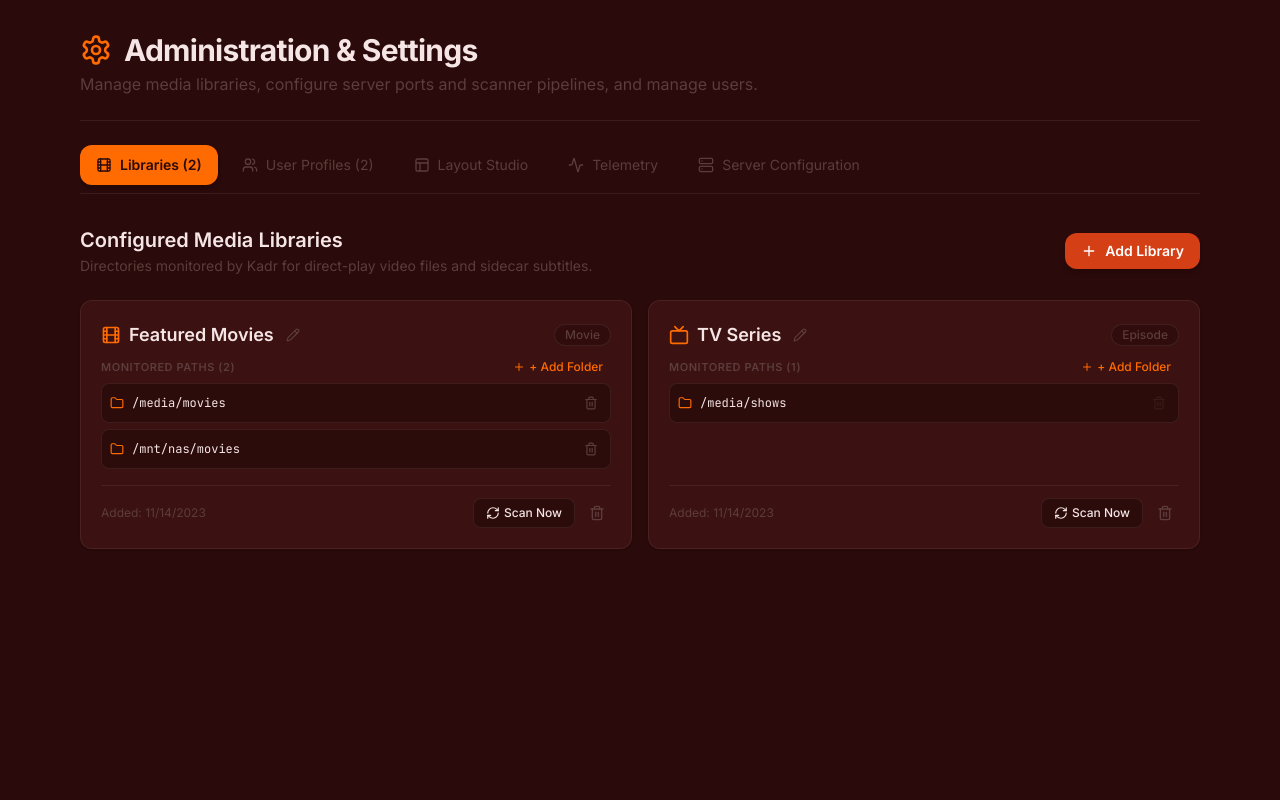
AdminDashboard Component › allows adding and removing folder paths in Add Library modal and disables submit with 0 paths
Expected: the heading "Featured Movies" is shown, [129, 321, 274, 349]
Click the button "Add Library". click: (1133,251)
box: [1065, 233, 1200, 269]
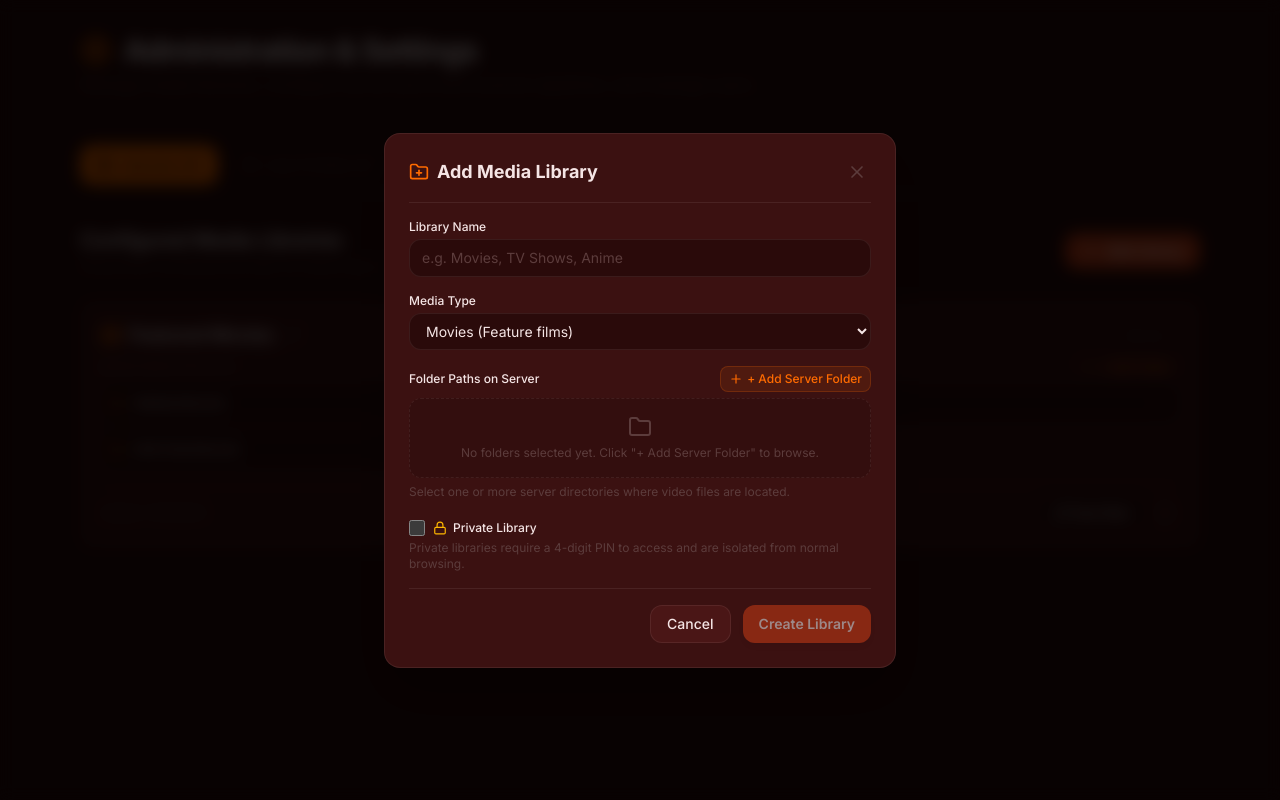
Type "Anime" into the field with placeholder "e.g. Movies, TV Shows, Anime". click: (640,258)
box: [409, 238, 871, 276]
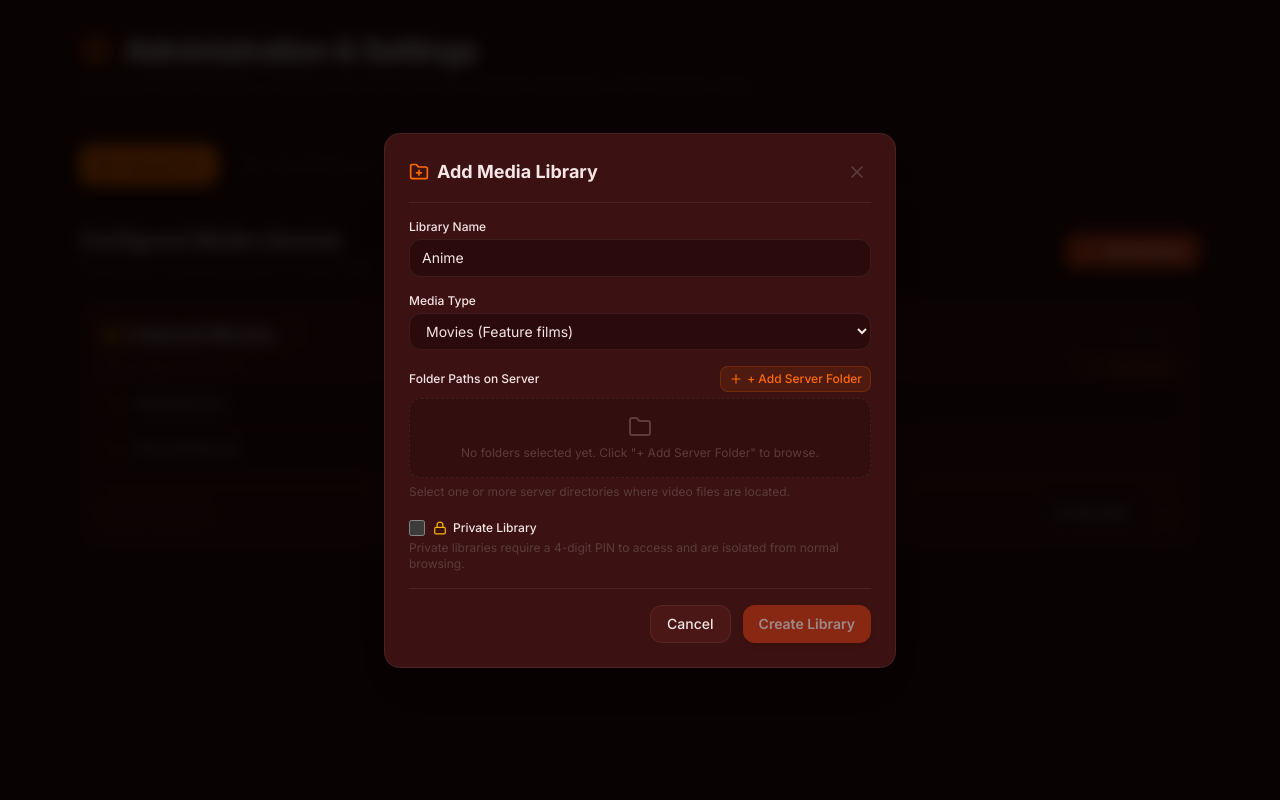
Expected: the button "Create Library" is disabled, [743, 604, 871, 642]
Note: Add first folder
Click the button "+ Add Server Folder". click: (796,378)
box: [720, 366, 871, 392]
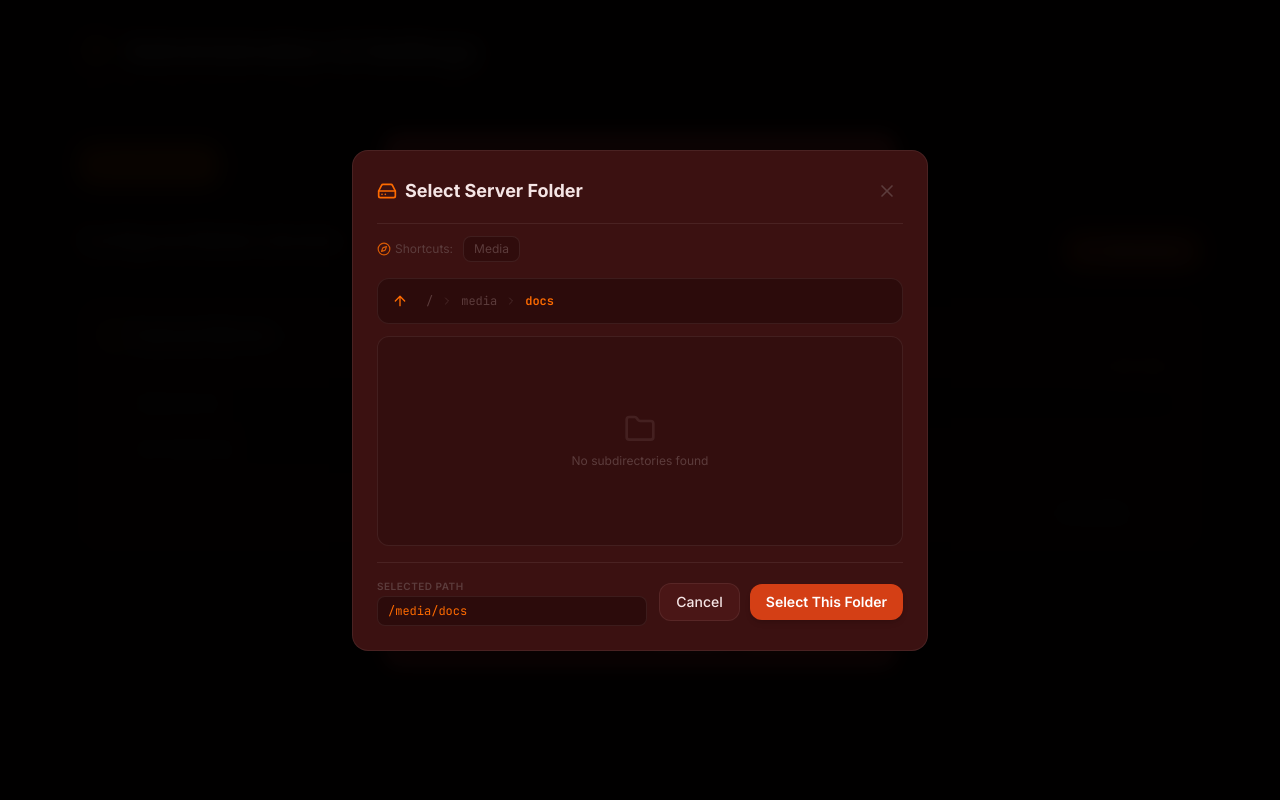
Expected: the heading "Select Server Folder" is shown, [405, 176, 583, 204]
Click the button "Select This Folder". click: (826,602)
box: [750, 584, 903, 620]
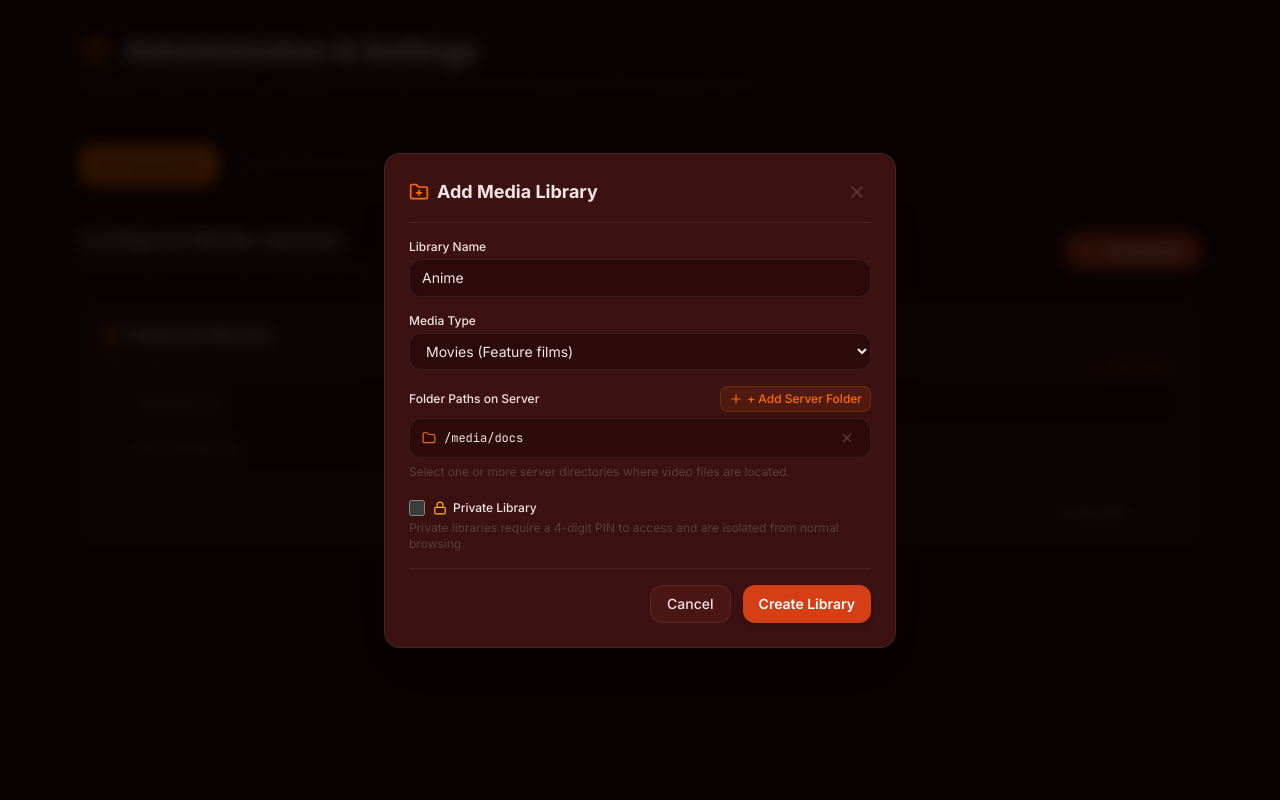
Expected: the text "/media/docs" is shown, [444, 430, 523, 446]
Expected: the button "Create Library" is enabled, [743, 584, 871, 622]
Note: Remove folder
Click the button named "Remove folder /media/docs". click: (847,438)
box: [836, 426, 858, 448]
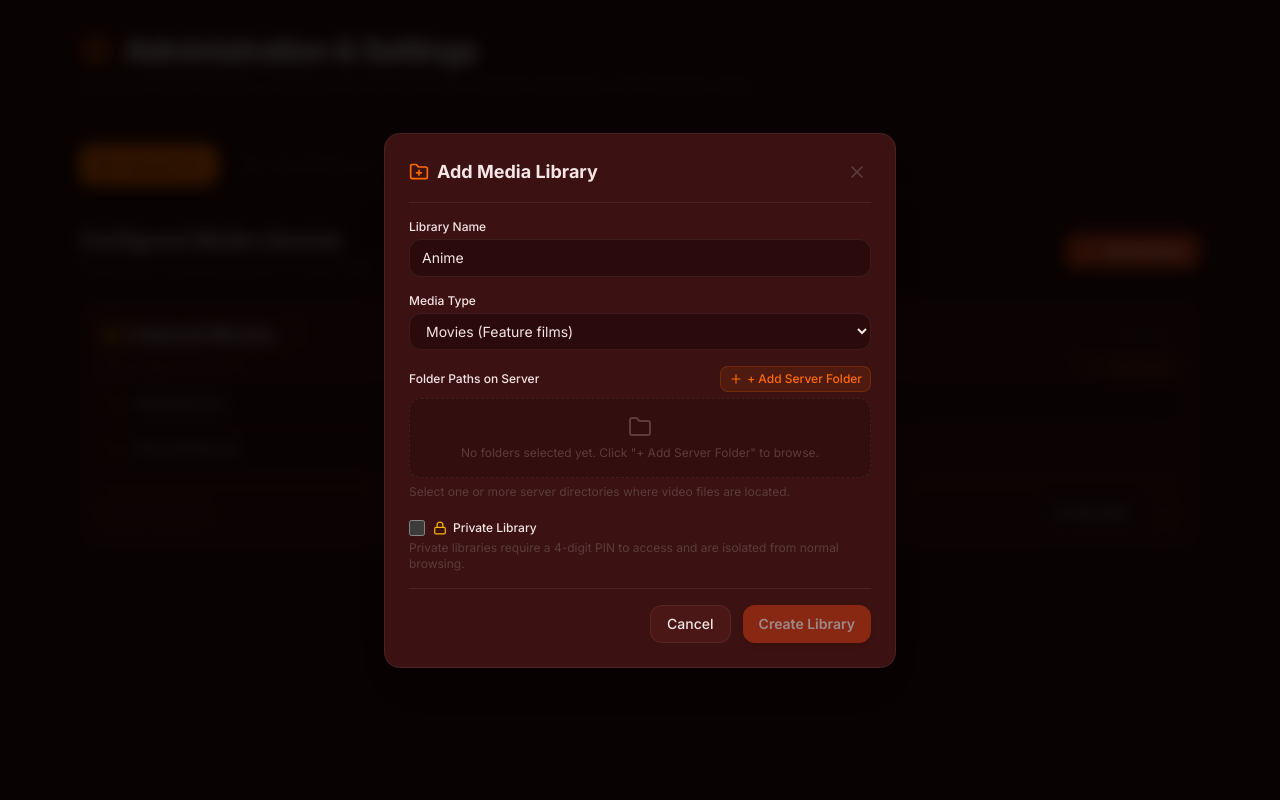
Expected: the text "/media/docs" is gone
Expected: the button "Create Library" is disabled, [743, 604, 871, 642]
